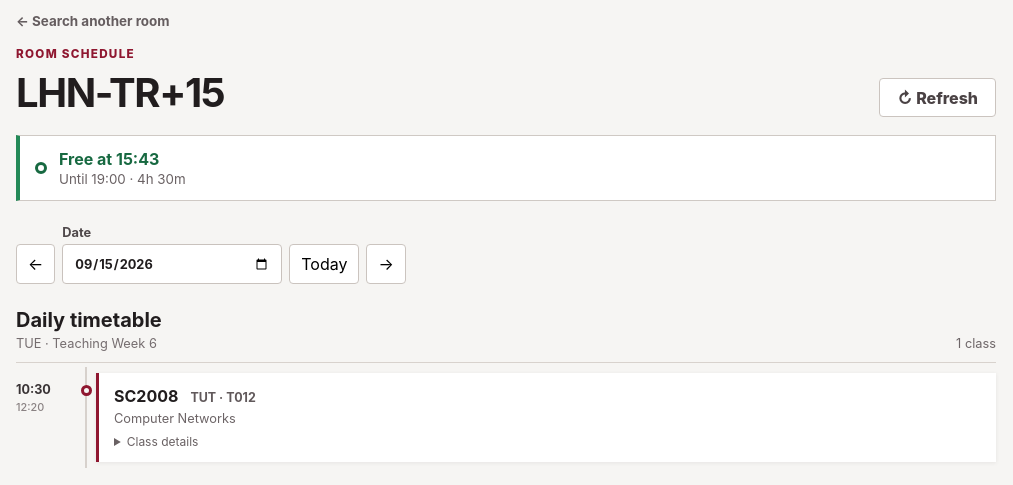
Test: Room schedule page › navigates dates and maps an unknown-room response
This screenshot has width=1013, height=485.
Expected: the heading "Daily timetable" is shown, [16,308,162,332]
Click the button named "Next day" at (386, 264), box [366,244,406,284]
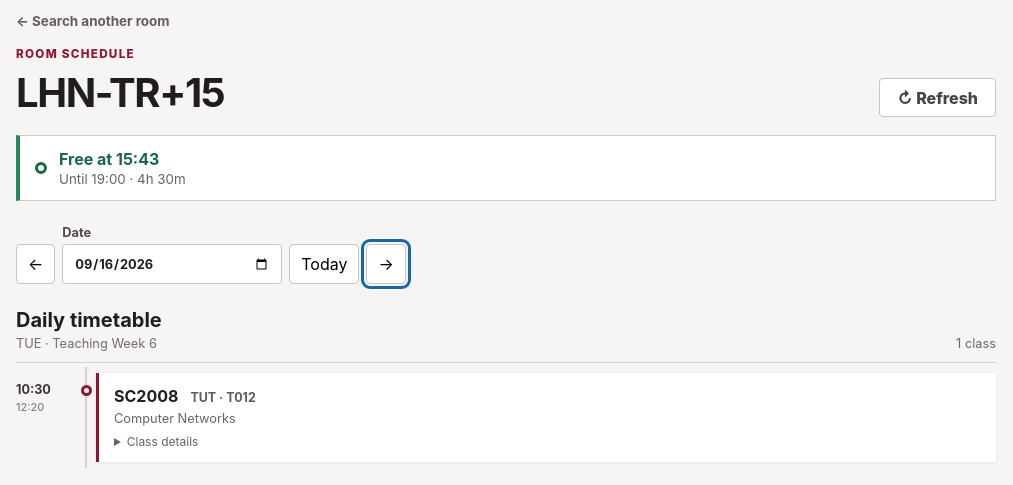
Click the button "↻ Refresh" at (938, 98), box [879,78,996,117]
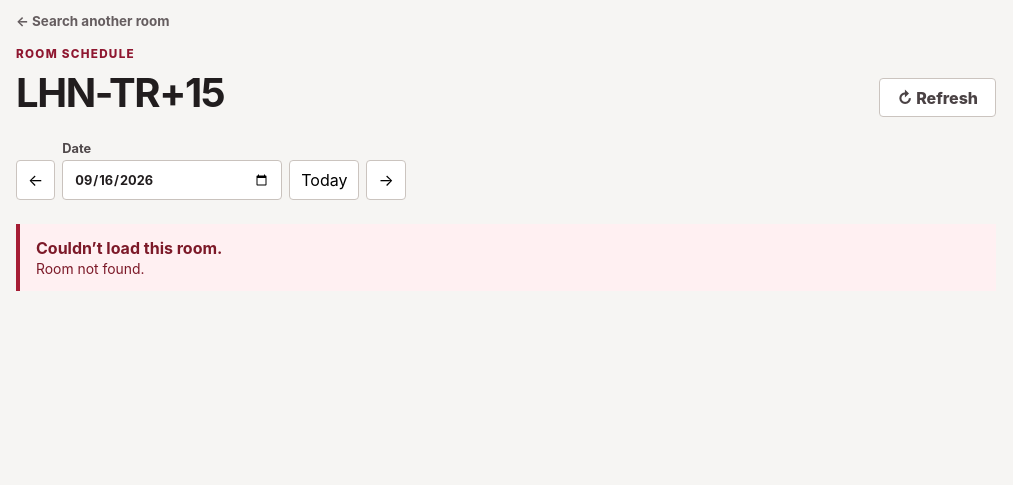
Expected: the text "Room not found." is shown, [36,261,145,277]
